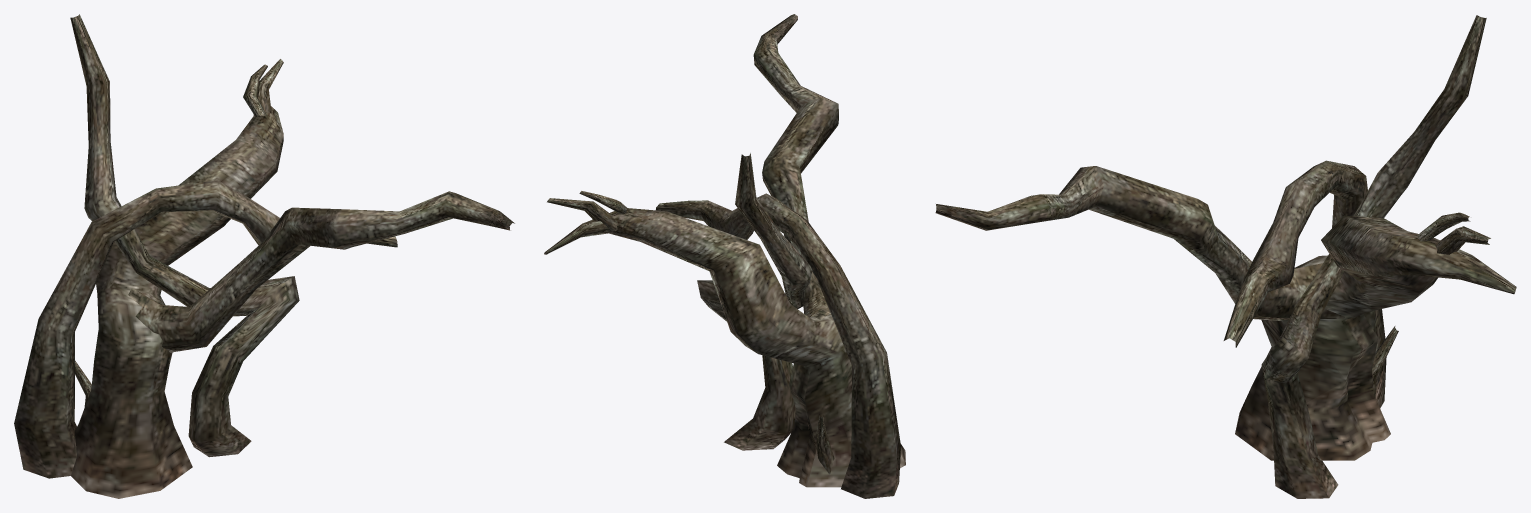
Rendered from deadmushroom_02.glb.
3 views of the same model, side by side, from view 1: azimuth 30°, elevation 25°; view 2: azimuth 150°, elevation 25°; view 3: azimuth 270°, elevation 25° (orthographic). The views are drawn at different scales.
Parts seen in each view (by area): view 1: deadwood_02; view 2: deadwood_02; view 3: deadwood_02.
Part boxes in pixels (x1,y1,x2,y2): deadwood_02: (14, 14, 514, 498); deadwood_02: (544, 14, 905, 498); deadwood_02: (935, 15, 1516, 498).
Size of the model in its own units: 5.18 by 5.93 by 7.21.
1 material, 1 textured.
